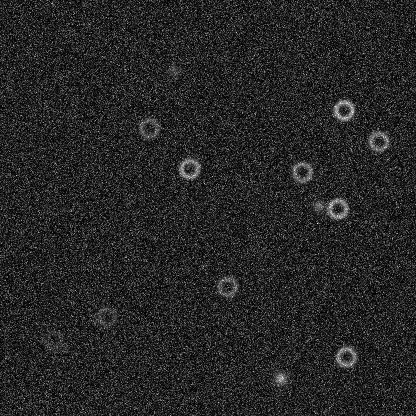Ring: (177, 156, 201, 180), (95, 304, 119, 328), (41, 328, 65, 352), (366, 129, 390, 153), (331, 98, 355, 122), (325, 196, 349, 220), (290, 160, 314, 184), (137, 116, 161, 140), (215, 274, 239, 298), (334, 344, 358, 368)
Spot: (310, 198, 326, 214), (272, 370, 288, 386), (165, 62, 181, 78)
